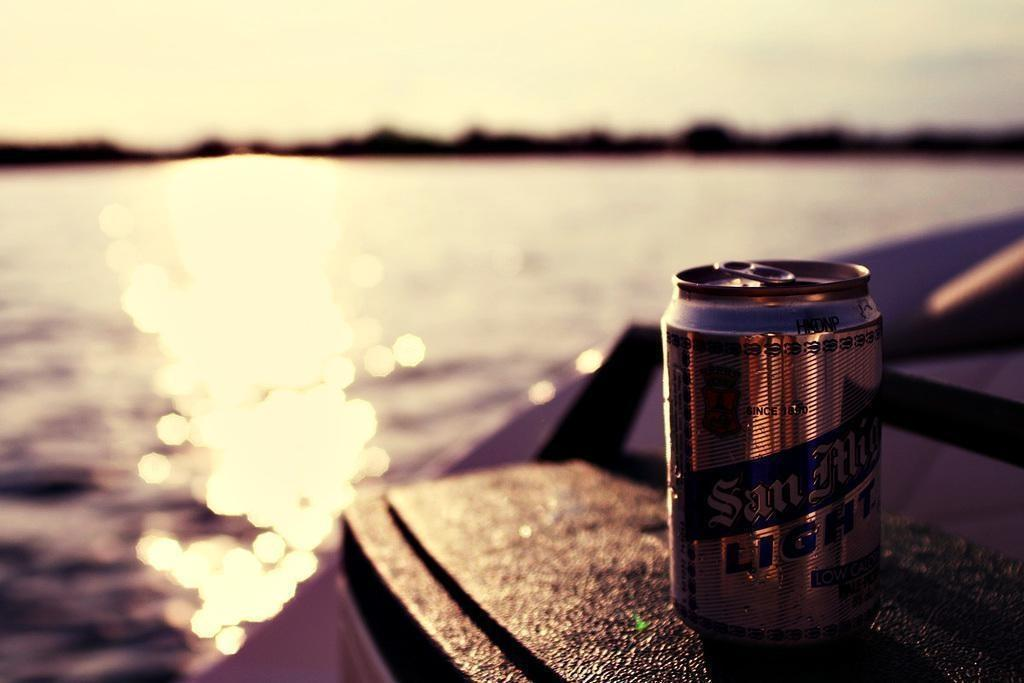tin can: (664, 253, 890, 653)
